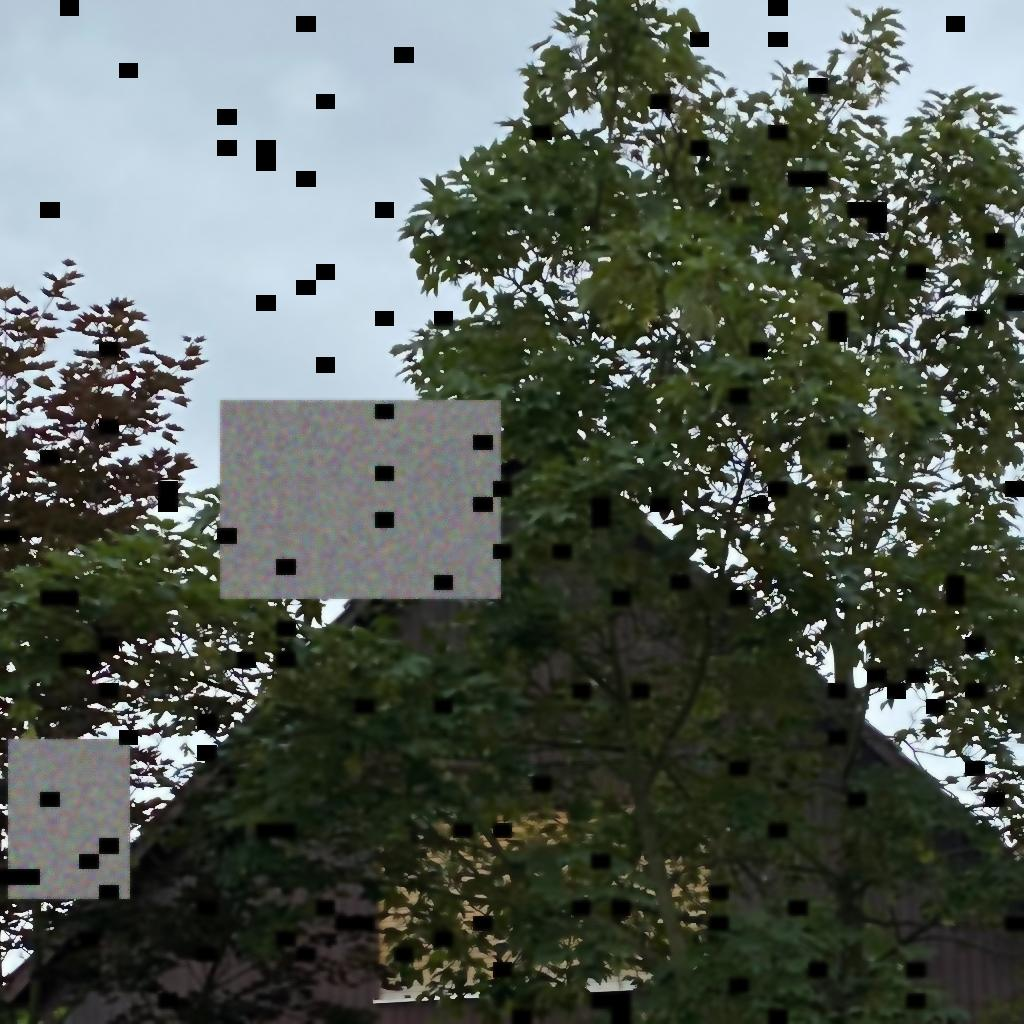tree: (388, 1, 1023, 1023), (1, 483, 532, 1024), (1, 256, 210, 567)
